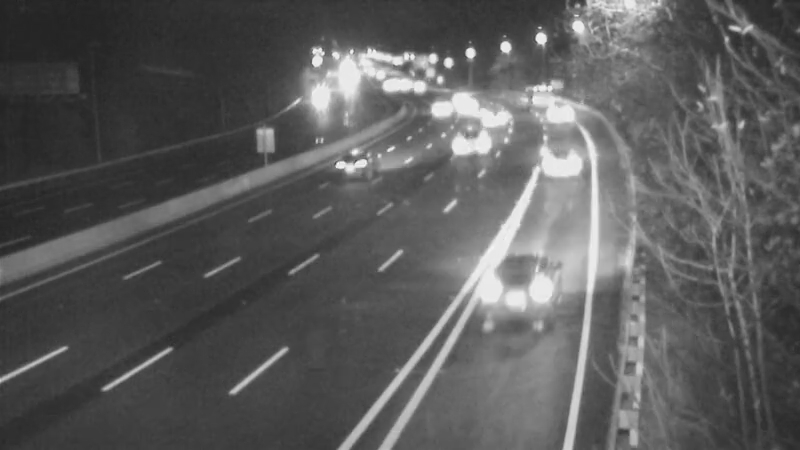vehicle: (460, 248, 570, 358), (518, 118, 598, 198), (320, 123, 400, 203), (362, 59, 412, 109), (511, 68, 561, 118), (432, 70, 482, 120), (437, 82, 487, 132), (411, 82, 461, 132), (529, 90, 579, 140), (471, 89, 521, 139), (445, 118, 495, 168), (294, 74, 344, 124)
